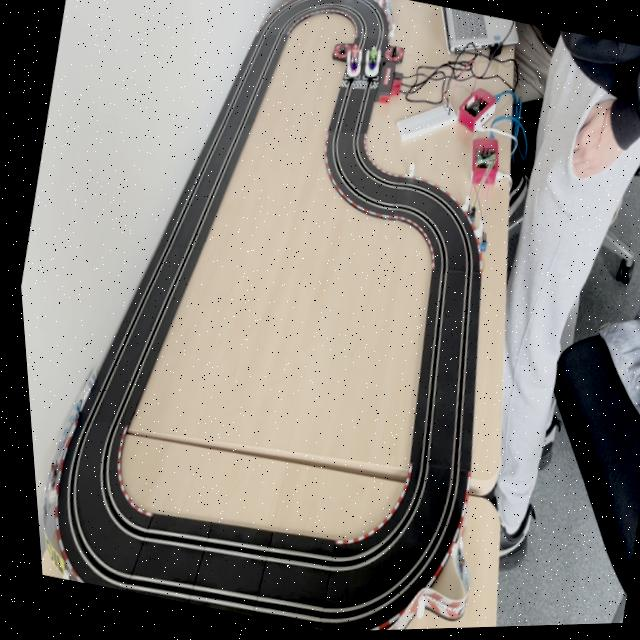mario: (340, 45, 366, 84)
yoshi: (360, 48, 384, 85)
